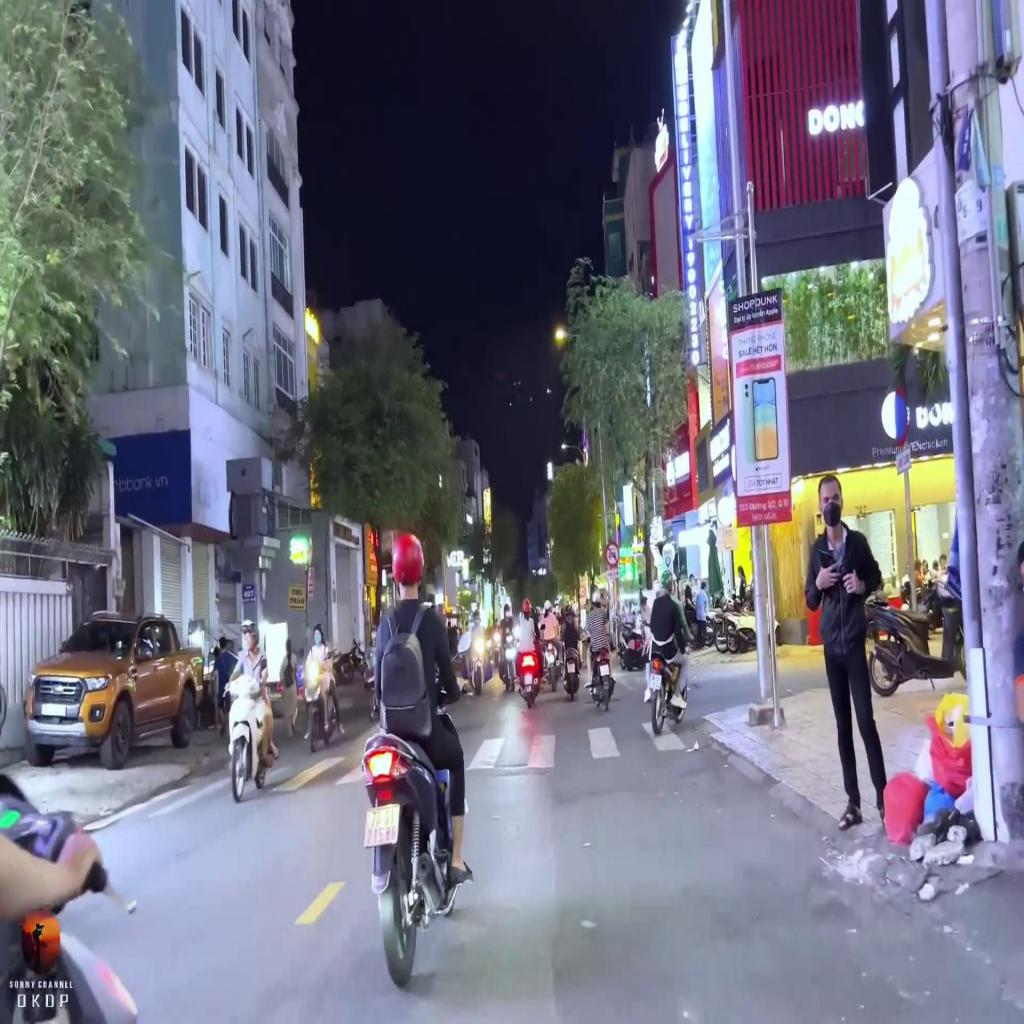cam_o_to: (605, 541, 620, 567)
